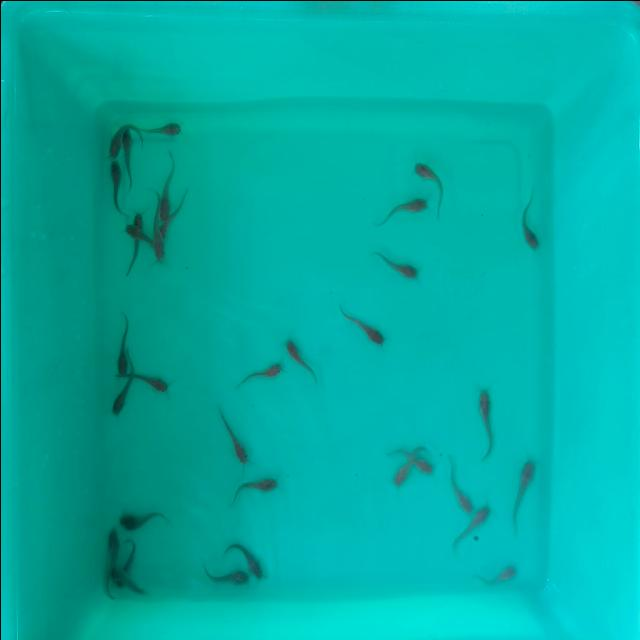lele: (448, 503, 492, 552), (372, 188, 428, 226), (157, 181, 191, 243), (212, 403, 246, 462), (280, 334, 320, 384), (224, 538, 265, 584), (367, 244, 418, 280), (509, 459, 533, 532), (227, 472, 280, 502), (447, 456, 474, 514), (233, 358, 286, 387), (116, 508, 168, 534), (518, 192, 540, 251), (101, 522, 117, 602), (147, 184, 164, 259), (410, 434, 436, 482), (349, 317, 387, 349), (112, 306, 130, 373), (478, 386, 494, 461), (104, 375, 132, 417), (388, 438, 409, 490), (157, 144, 173, 212), (412, 164, 448, 194), (195, 565, 247, 585), (122, 219, 154, 248), (120, 120, 132, 196), (480, 564, 516, 588), (134, 372, 170, 394), (129, 211, 142, 271), (118, 540, 142, 572), (109, 159, 121, 217), (140, 120, 182, 136), (113, 574, 146, 592), (108, 116, 121, 157)
